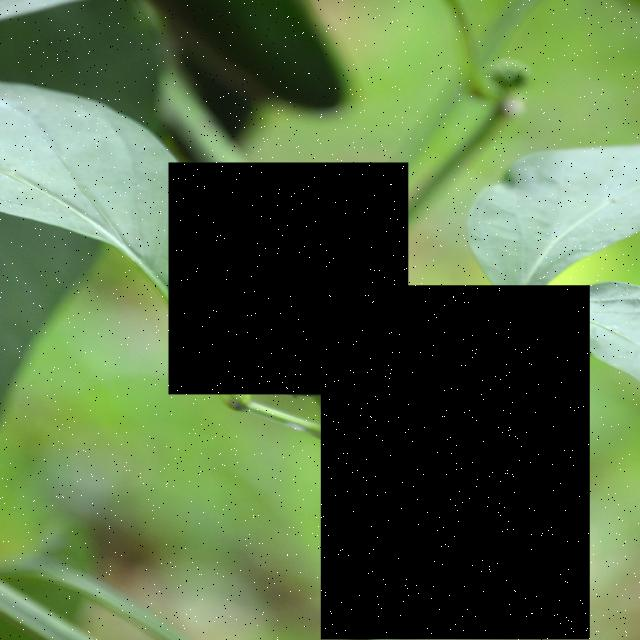Chili_Pepper: (321, 285, 590, 640), (169, 162, 408, 394)
